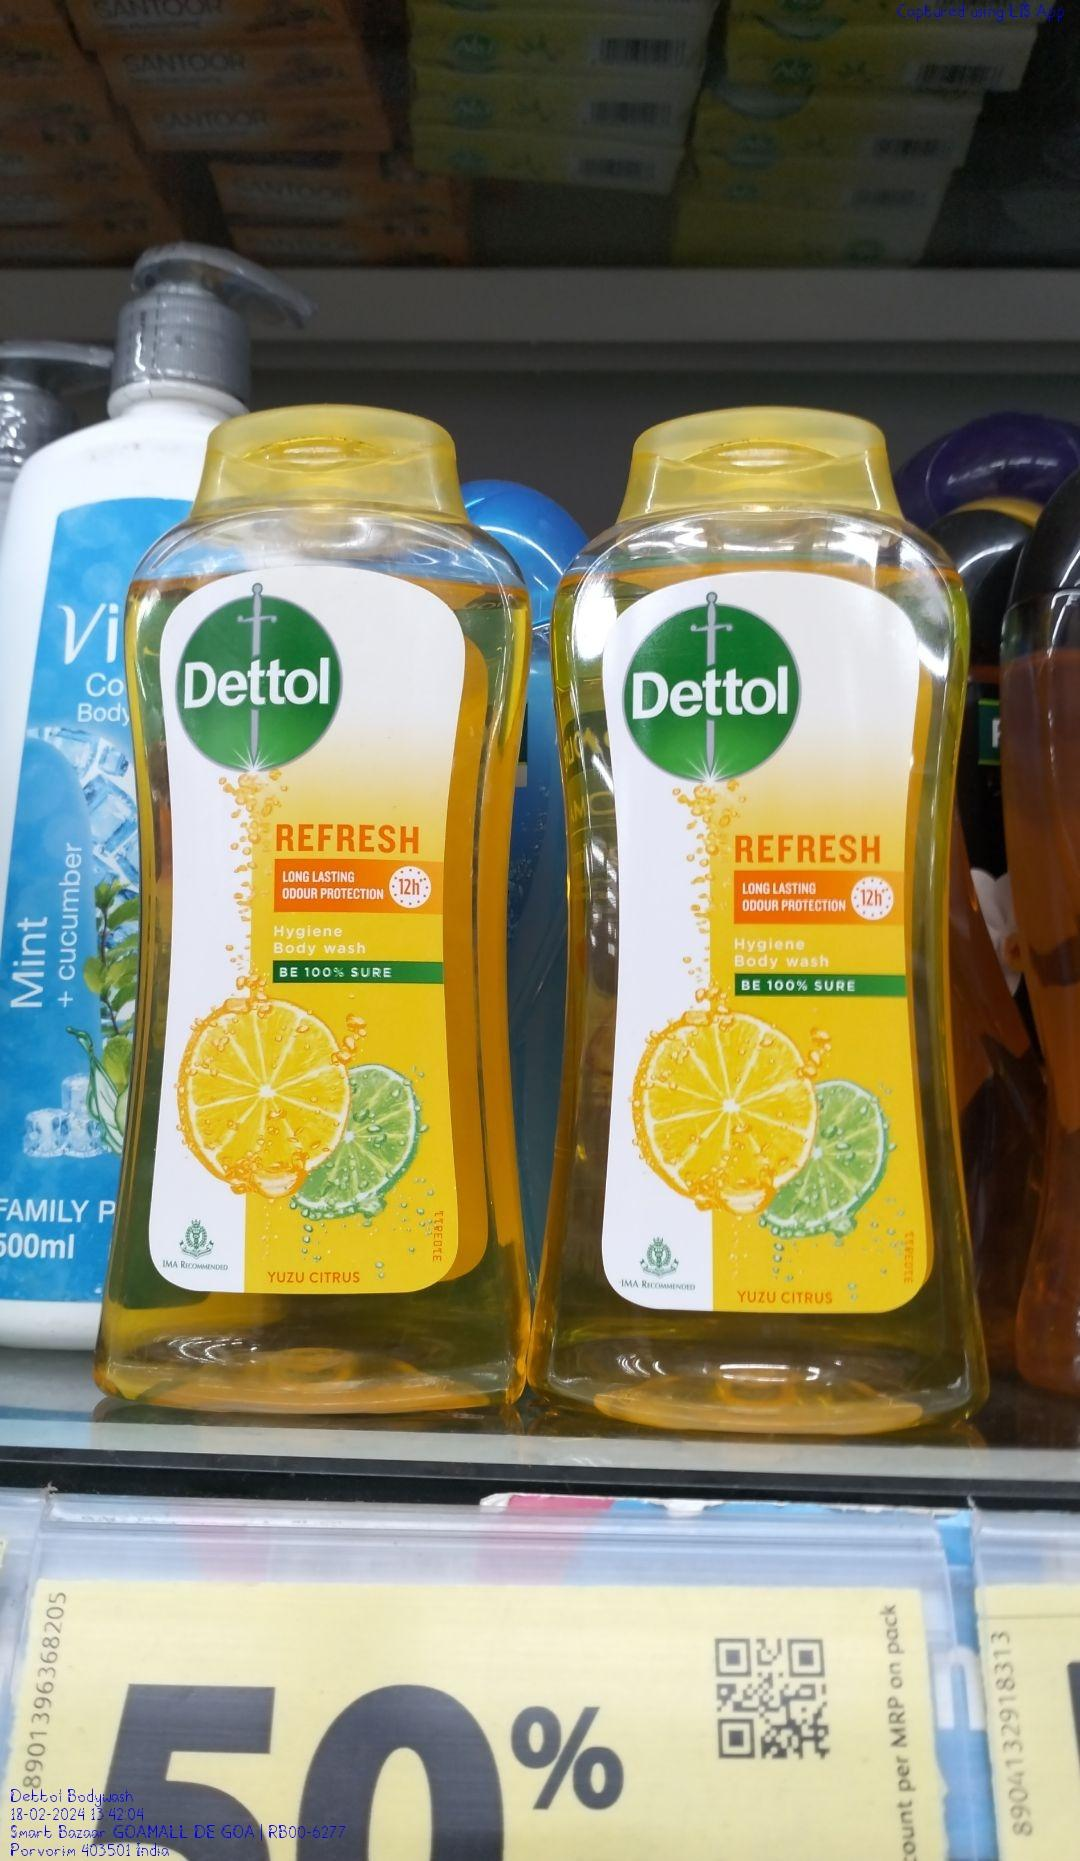Dettol_Bodywash_Refresh: (545, 379, 1007, 1439), (113, 389, 531, 1434)
